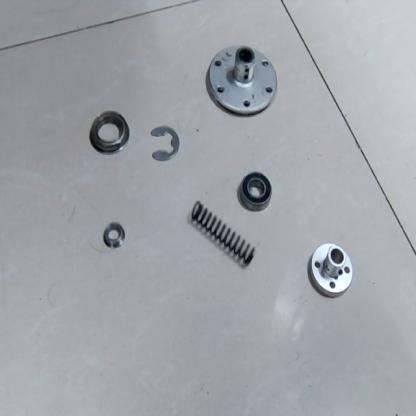FOD: (3, 4, 414, 412), (206, 38, 278, 119), (189, 199, 257, 266), (307, 240, 357, 300), (87, 107, 131, 157), (149, 122, 181, 165), (240, 169, 272, 211), (100, 220, 125, 252)
